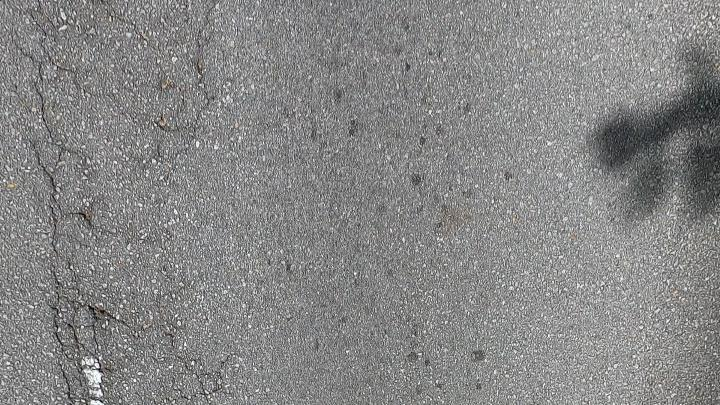Crack: (23, 54, 119, 404), (21, 42, 106, 405)
